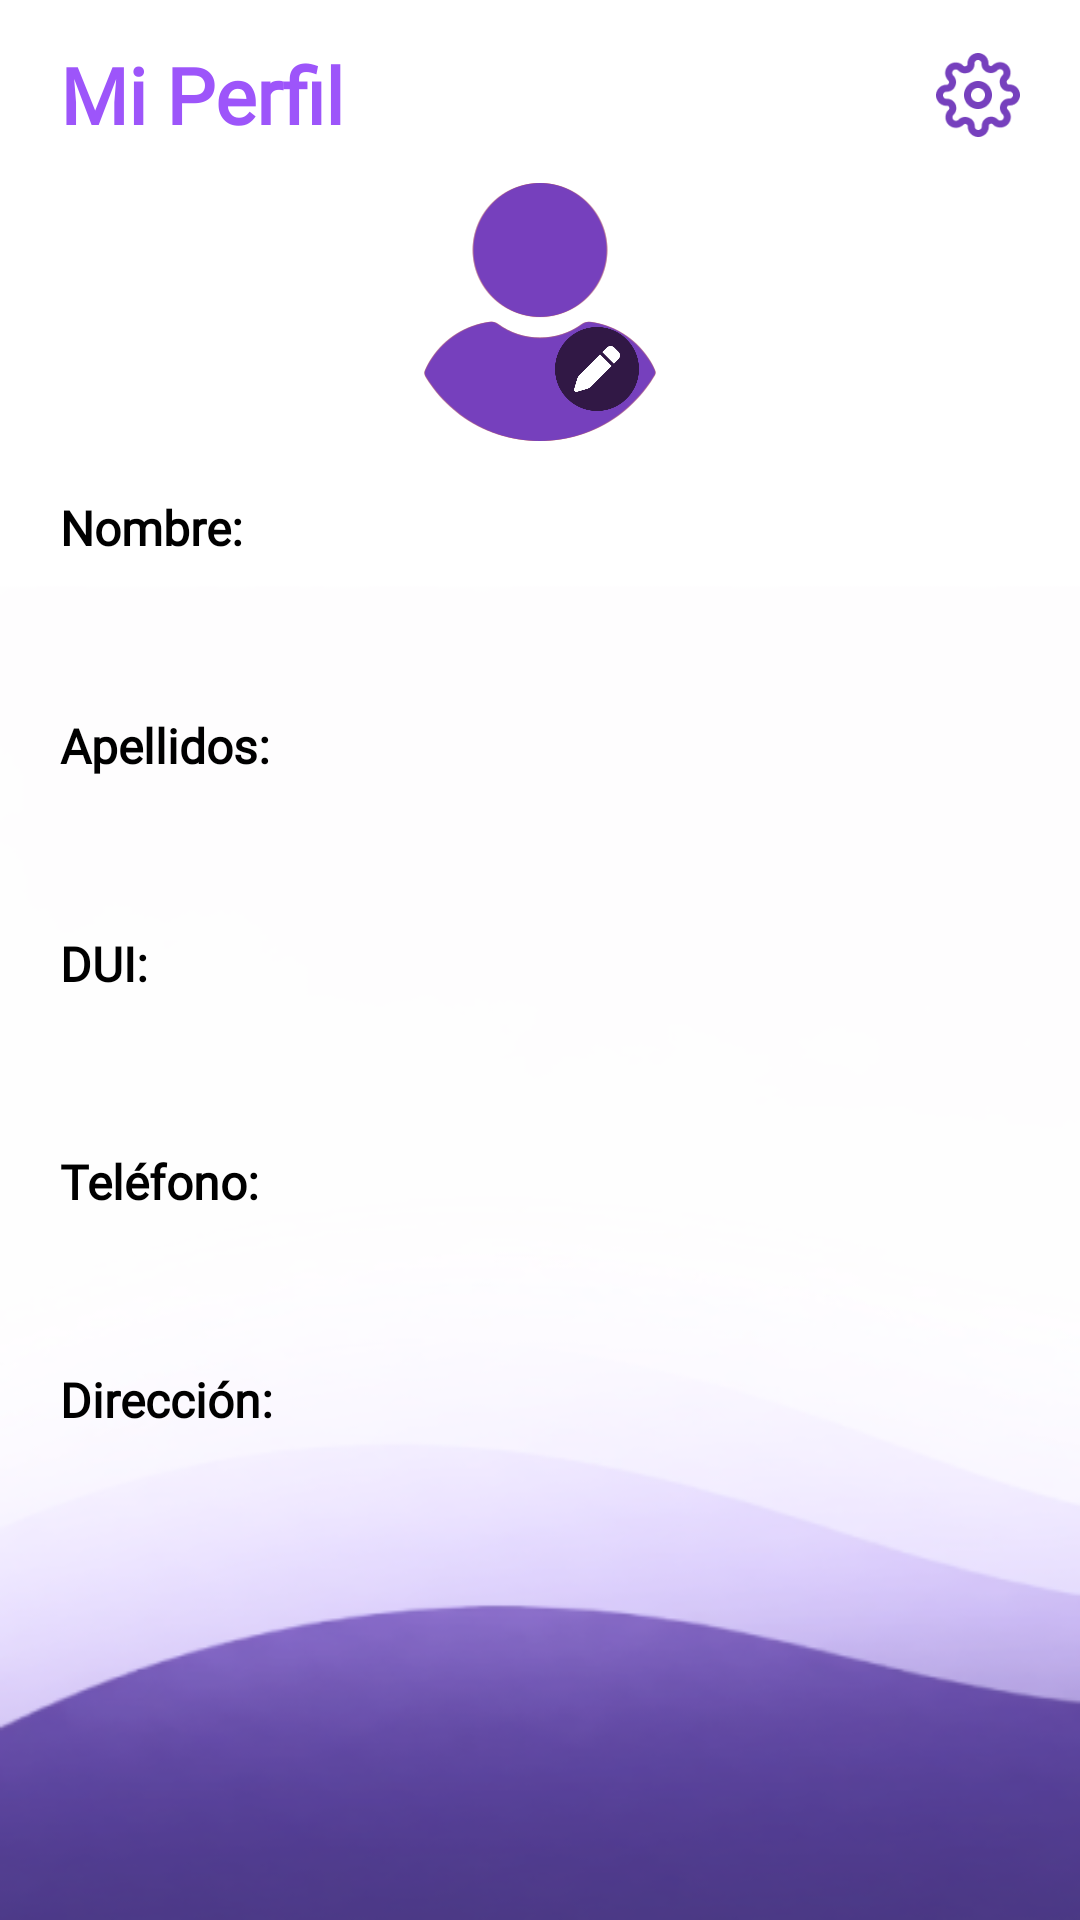

Point at icon controls on the screen. Image size 1080 × 1920, points as (x=x, y=y).
Ajustes: (x=978, y=95)
